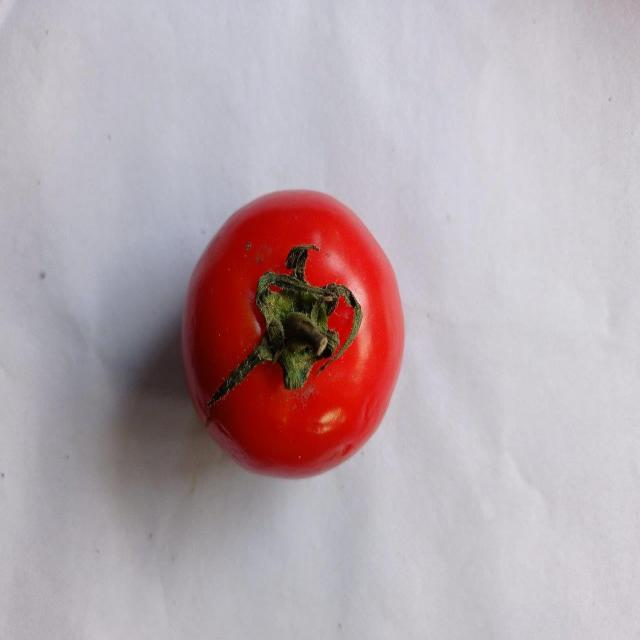Tomato: (180, 187, 409, 482)
